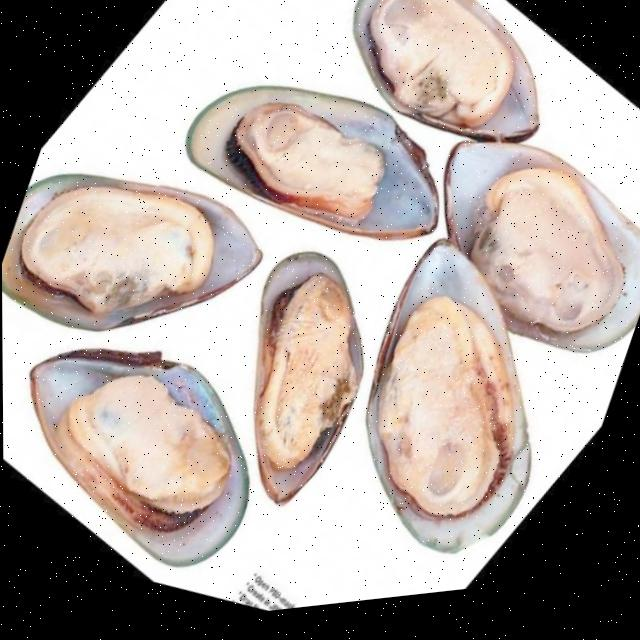Oyster-Open: (318, 212, 602, 588), (2, 293, 290, 604), (168, 35, 472, 284), (1, 125, 279, 390), (393, 108, 640, 388), (193, 228, 401, 529), (322, 0, 579, 176)
